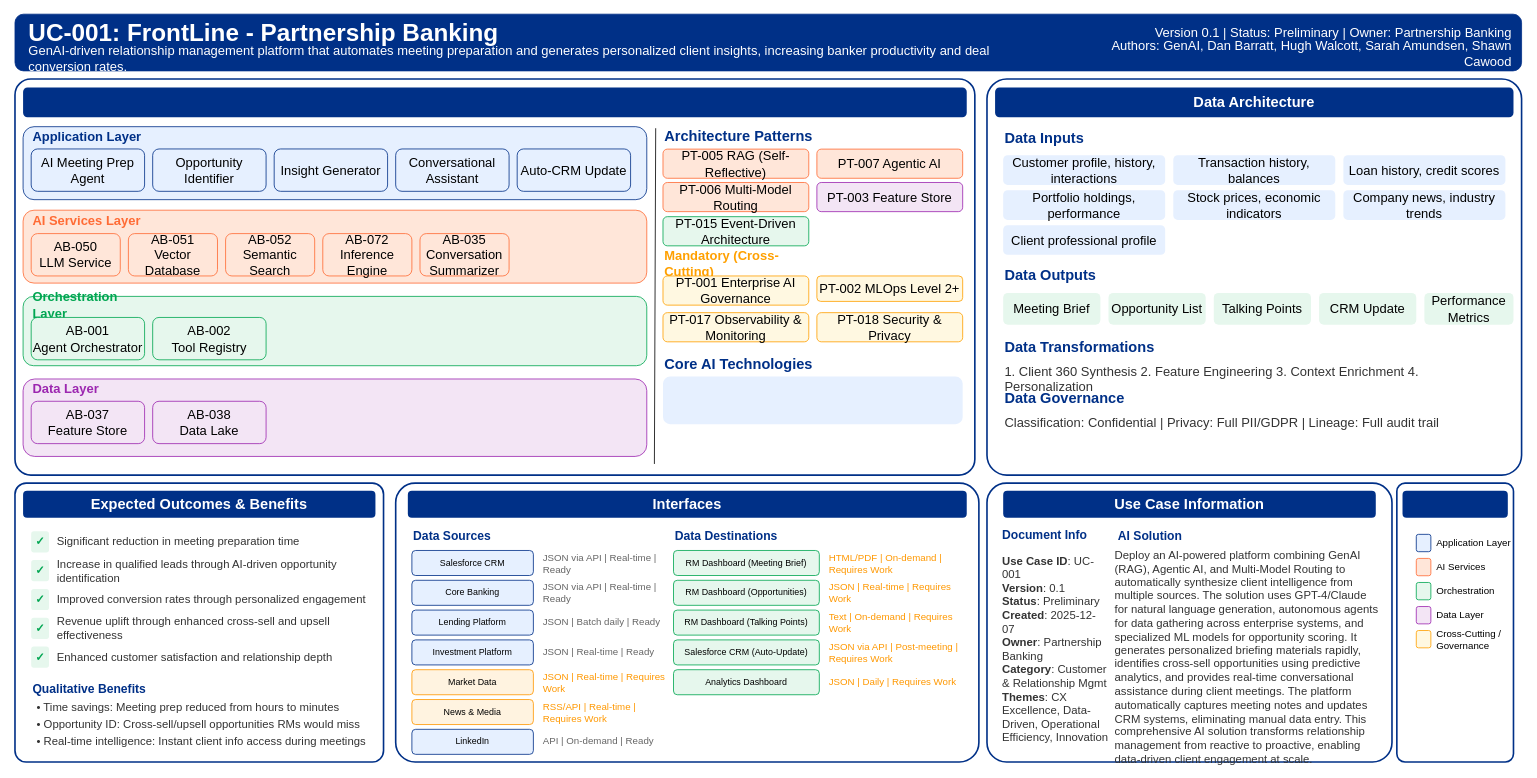
This 1537x778 diagram has some shape labels left out. Here are the shapes that lost their labels. From the top down, the centre of each, then its label:
At (x=494, y=102): "Solution".
At (x=812, y=400): "GPT-4/Claude | XGBoost/Random Forest | LangChain/LlamaIndex".
At (x=1454, y=503): "Legend".
